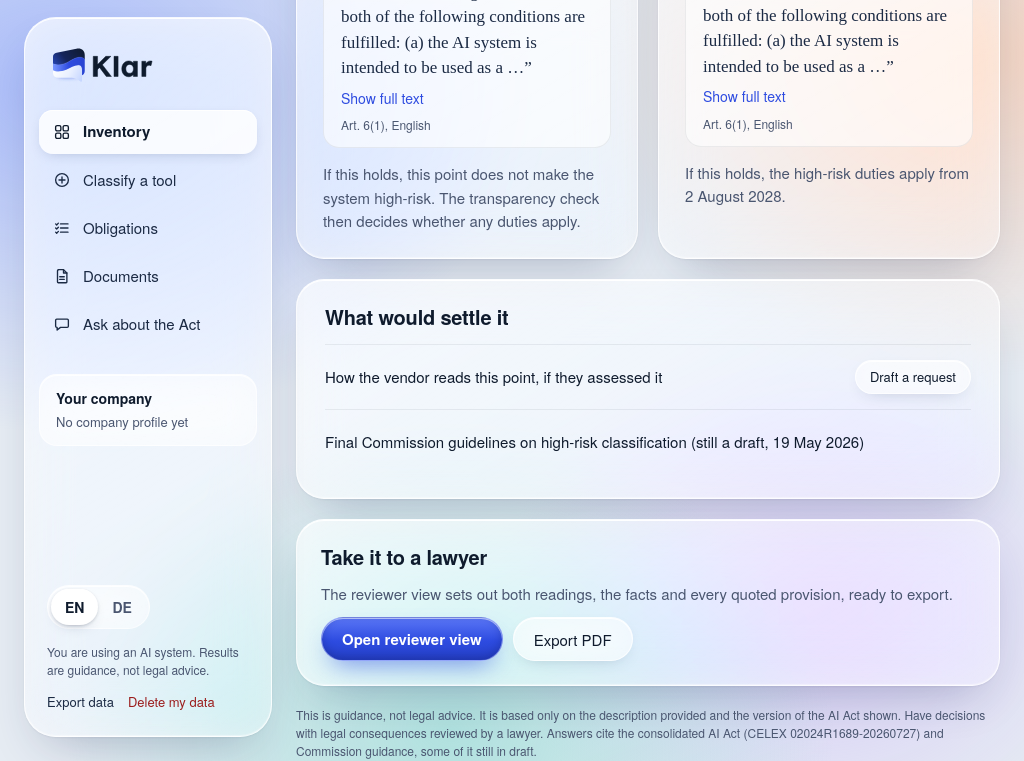
Test: A legally ambiguous result (en) › says when the browser refuses to copy the request
The image size is (1024, 761).
(page scrolled)
Click the button "Draft a request".
click(913, 377)  # box [855, 360, 971, 394]
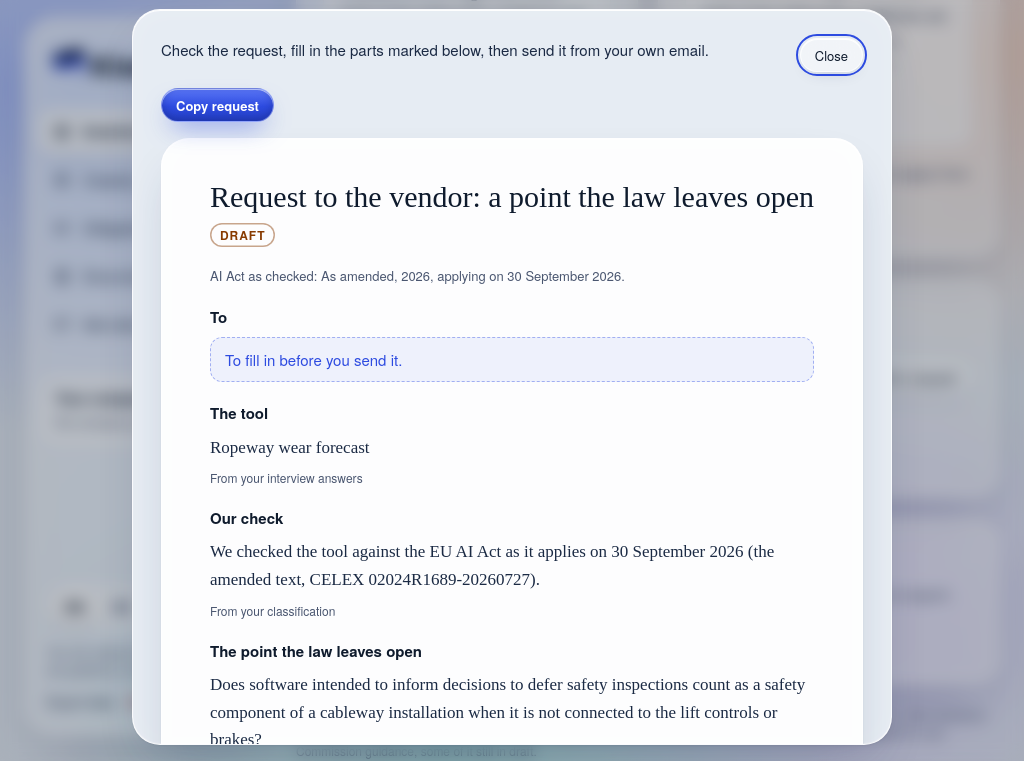
Click the button "Copy request".
click(218, 105)  # box [161, 88, 274, 122]
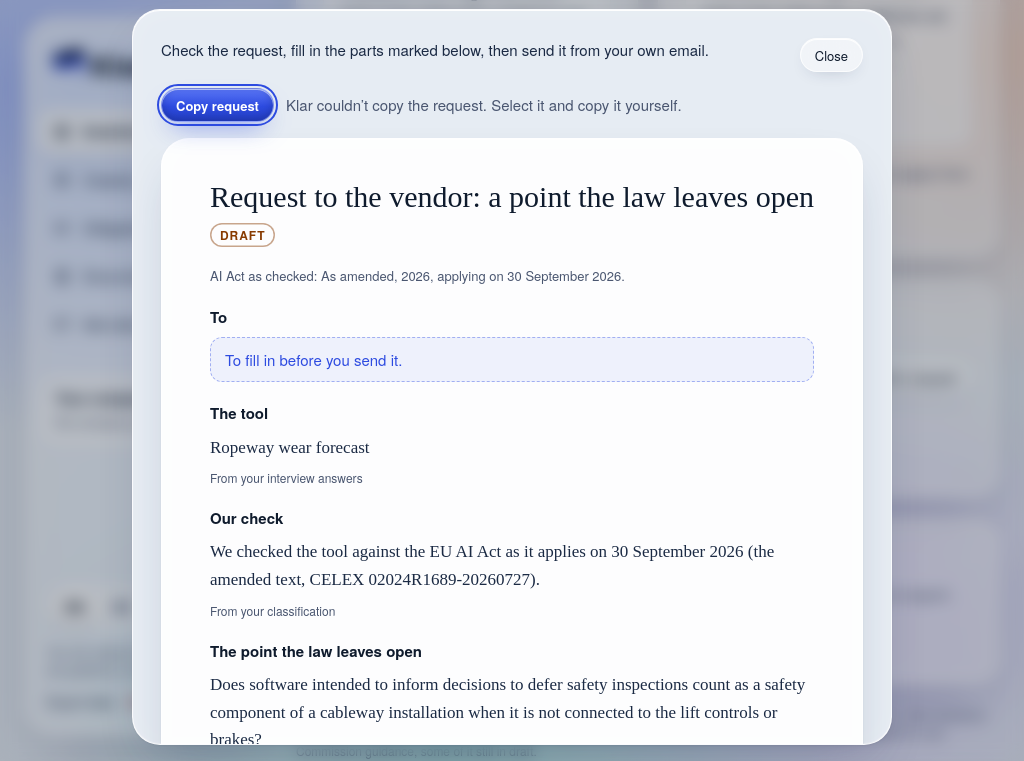
Expected: the text "Klar couldn’t copy the request. Select it and copy it yourself." is shown, [286, 93, 682, 117]
